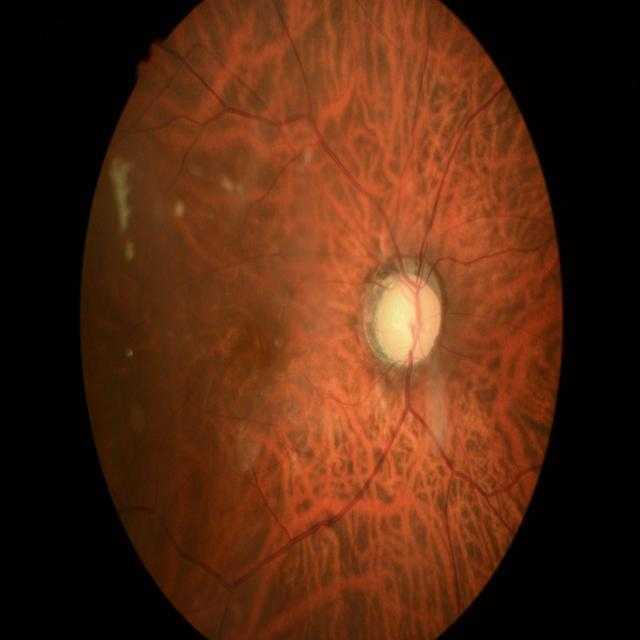cup: (390, 282, 424, 356)
disk: (378, 272, 442, 364)
